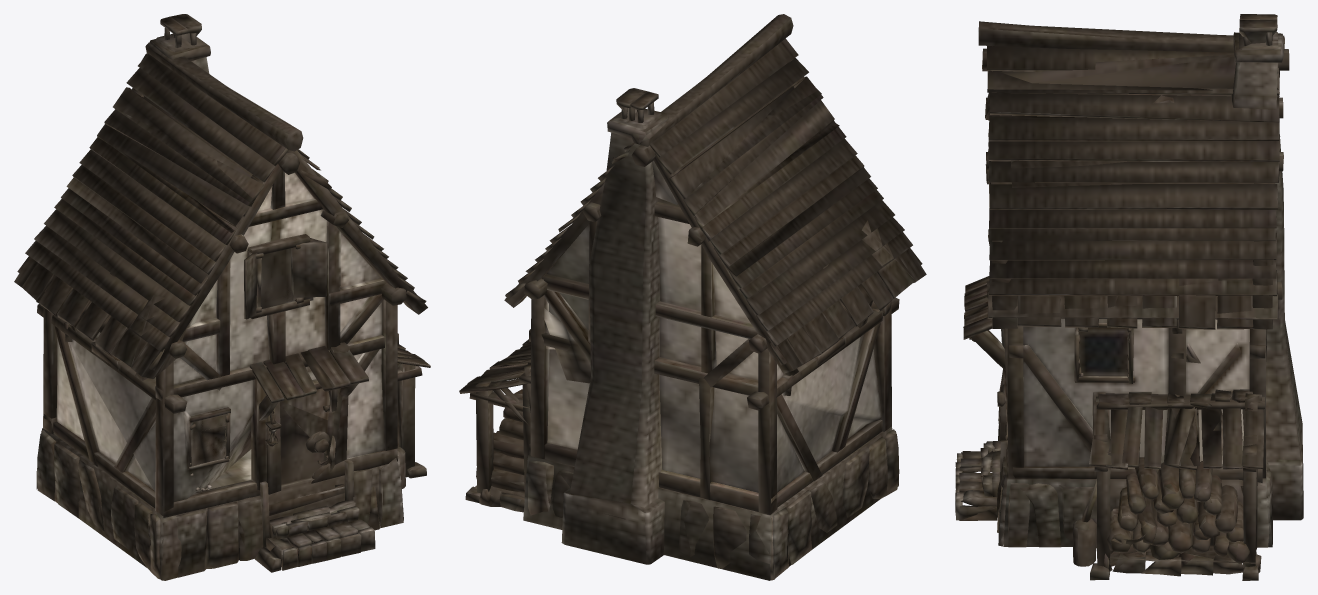
Rendered from x_home_B.glb.
The picture shows the model from 3 angles, left to right: view 1: azimuth 30°, elevation 25°; view 2: azimuth 150°, elevation 25°; view 3: azimuth 270°, elevation 25°; orthographic projection. The views are drawn at different scales.
Visible parts, largest first — view 1: x_home_B; view 2: x_home_B; view 3: x_home_B.
Boxes of the visible parts, x1,y1,x2,y2 form: x_home_B: (14,14,430,580); x_home_B: (459,14,926,580); x_home_B: (955,14,1303,580).
Bounding box in the file's own units: 0.875 × 1.08 × 0.7252.
1 material, 1 textured.
